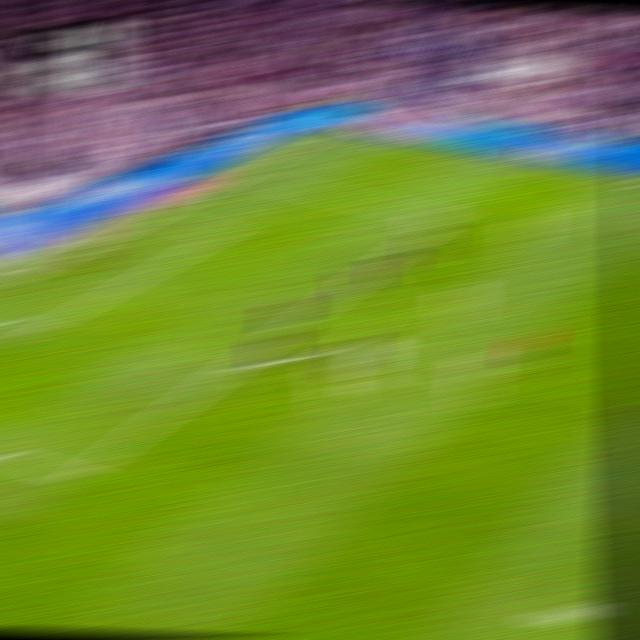bigarea_bottom_inner: (59, 462, 93, 490)
bigarea_top_inner: (432, 210, 461, 223)
bigarea_top_outter: (228, 168, 259, 181)
bottom_arc_area_intersection: (220, 352, 255, 374)
corner: (315, 128, 346, 138)
smallarea_bottom_inner: (21, 321, 52, 340)
smallarea_top_inner: (207, 226, 237, 239)
top_arc_area_intersection: (350, 269, 379, 282)
